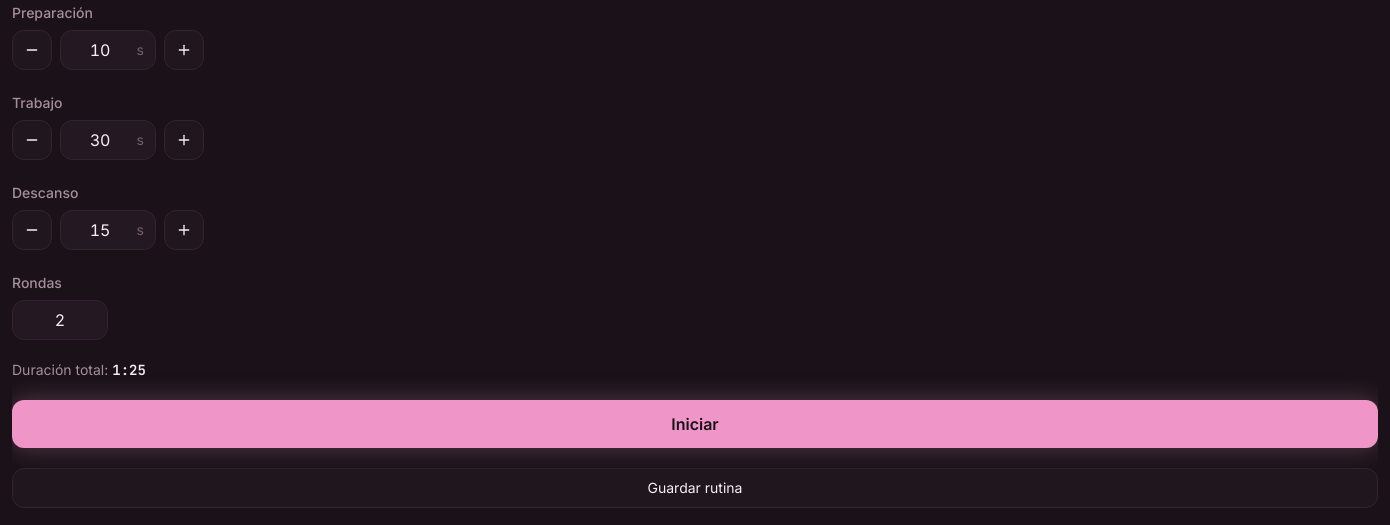
it: ClasicoConfigScreen — resumen de duración total (compilePlan) › el resumen reacciona en vivo: 1 ronda elimina el descanso final (40 s → 0:40)
The image size is (1390, 525).
Replace the text in the field labelled "Rondas" with "1": (60, 320) [12,300,108,340]
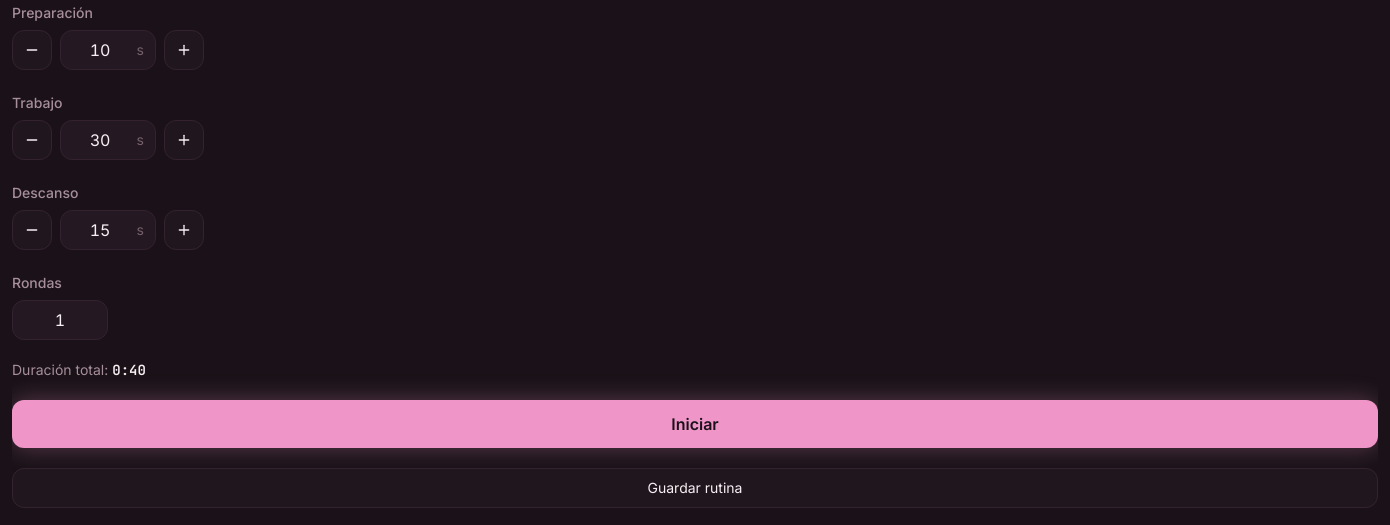
Result: the text with test id "total-sesion" reads "0:40" at [112,361,146,379]
